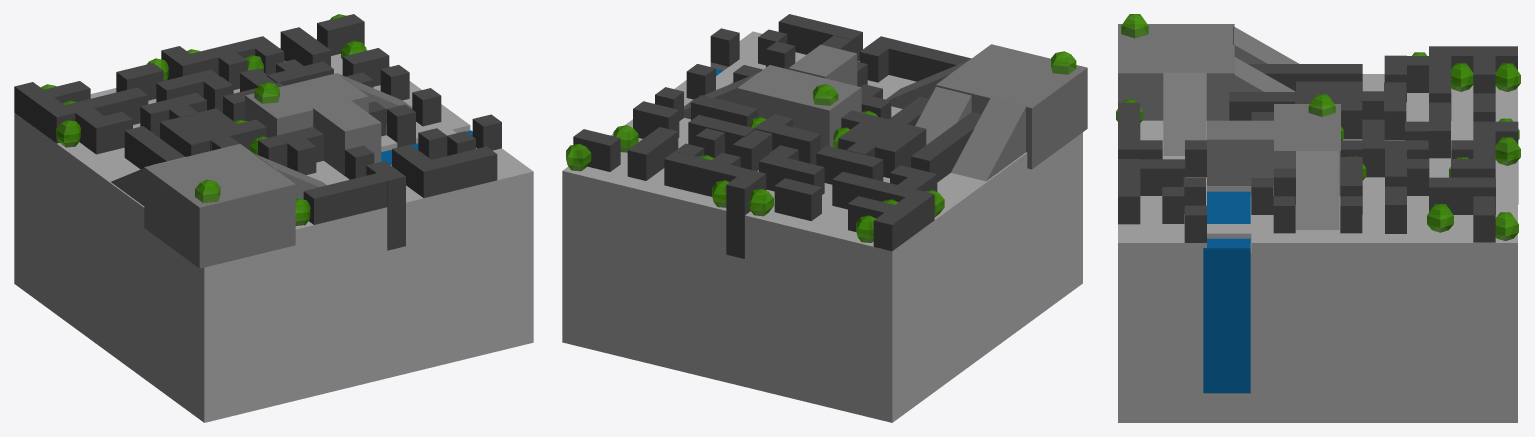
Rendered from map1Test.fbx.
The picture shows the model from 3 angles, left to right: view 1: azimuth 30°, elevation 25°; view 2: azimuth 150°, elevation 25°; view 3: azimuth 270°, elevation 25°; orthographic projection. The views are drawn at different scales.
Visible parts, largest first — view 1: pCube1, pCube3, pCube18, pCube23, pCube21, pCube20, pCube25, pCube9, pCube37, pCube13, pCube7, pCube8 (+30 smaller); view 2: pCube1, pCube3, pCube18, pCube4, pCube25, pCube13, pCube9, pCube7, pCube20, pCube10, pCube21, pCube15 (+29 smaller); view 3: pCube1, pCube3, pCube52, pCube23, pCube18, pCube22, pCube19, pCube51, pCube15, pCube25, pCube7, pCube21 (+42 smaller).
Boxes of the visible parts, <box> form: pCube1: <box>14,39,533,422</box>; pCube3: <box>144,144,295,268</box>; pCube18: <box>245,73,368,137</box>; pCube23: <box>313,99,381,175</box>; pCube21: <box>413,146,497,197</box>; pCube20: <box>303,173,387,224</box>; pCube25: <box>160,108,247,156</box>; pCube9: <box>46,87,148,143</box>; pCube37: <box>366,161,405,250</box>; pCube13: <box>172,36,273,78</box>; pCube7: <box>124,126,184,169</box>; pCube8: <box>85,111,132,154</box>; pCube1: <box>562,31,1082,422</box>; pCube3: <box>935,44,1087,169</box>; pCube18: <box>737,65,861,149</box>; pCube4: <box>951,97,1026,181</box>; pCube25: <box>838,117,926,178</box>; pCube13: <box>664,151,766,196</box>; pCube9: <box>832,171,934,227</box>; pCube7: <box>911,112,981,182</box>; pCube20: <box>888,41,971,81</box>; pCube10: <box>873,197,924,251</box>; pCube21: <box>778,14,862,61</box>; pCube15: <box>627,127,678,180</box>; pCube1: <box>1118,74,1517,422</box>; pCube3: <box>1118,24,1234,120</box>; pCube52: <box>1203,249,1250,393</box>; pCube23: <box>1207,120,1273,186</box>; pCube18: <box>1274,104,1340,196</box>; pCube22: <box>1296,151,1339,229</box>; pCube19: <box>1163,72,1206,155</box>; pCube51: <box>1203,191,1250,249</box>; pCube15: <box>1429,177,1495,214</box>; pCube25: <box>1296,81,1362,139</box>; pCube7: <box>1248,64,1362,91</box>; pCube21: <box>1118,159,1140,224</box>.
Size of the model in its own units: 27.21 by 18.06 by 26.97.
